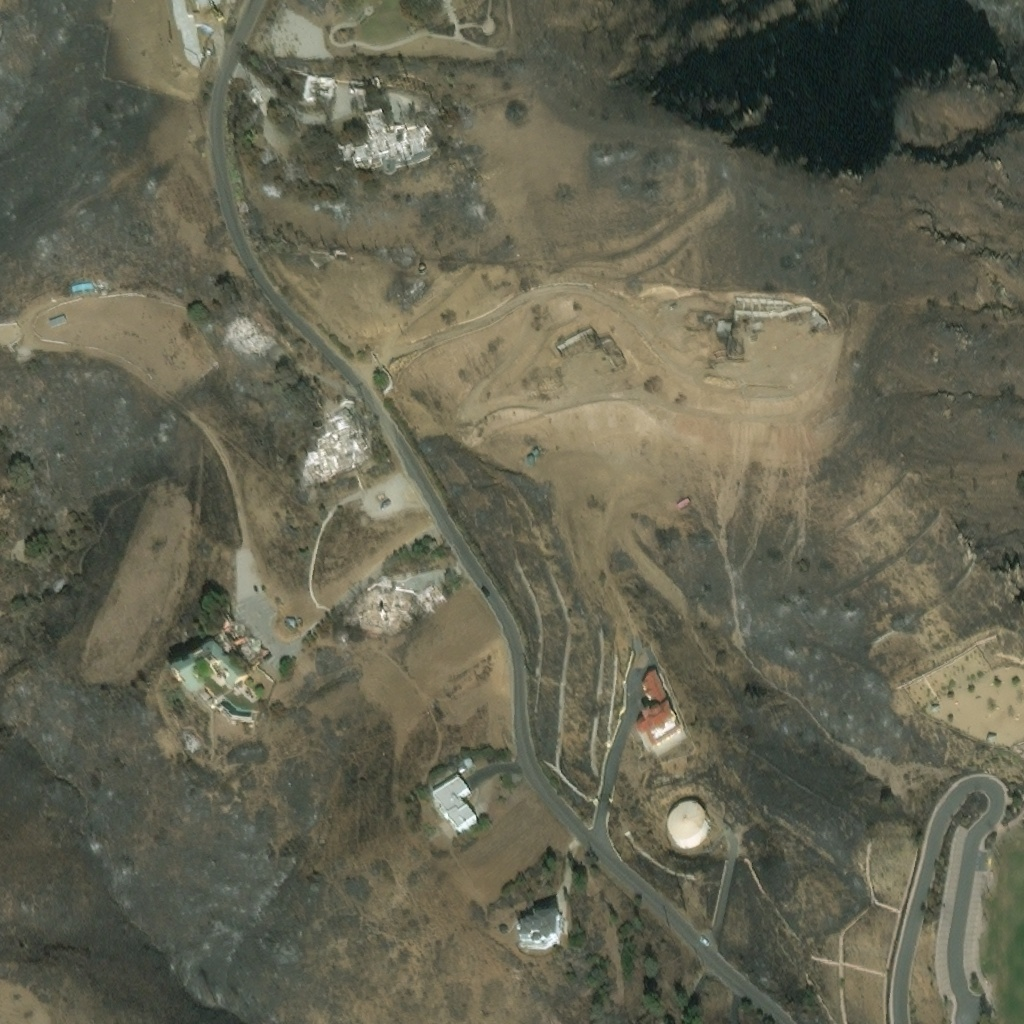0 no-damage: (171, 639, 245, 706), (634, 669, 681, 745), (429, 775, 478, 834), (518, 912, 566, 949), (664, 796, 704, 839), (69, 278, 92, 292), (47, 313, 66, 327)
2 major-damage: (219, 616, 264, 660), (346, 74, 380, 95), (715, 311, 734, 333)
3 destroyed: (338, 105, 430, 177), (305, 425, 366, 481), (356, 585, 413, 638), (224, 306, 272, 354), (303, 71, 334, 102), (414, 579, 442, 606), (325, 407, 347, 431), (405, 278, 428, 298), (210, 20, 221, 43), (250, 92, 262, 104), (630, 459, 639, 474), (184, 130, 194, 140), (94, 283, 105, 291)
